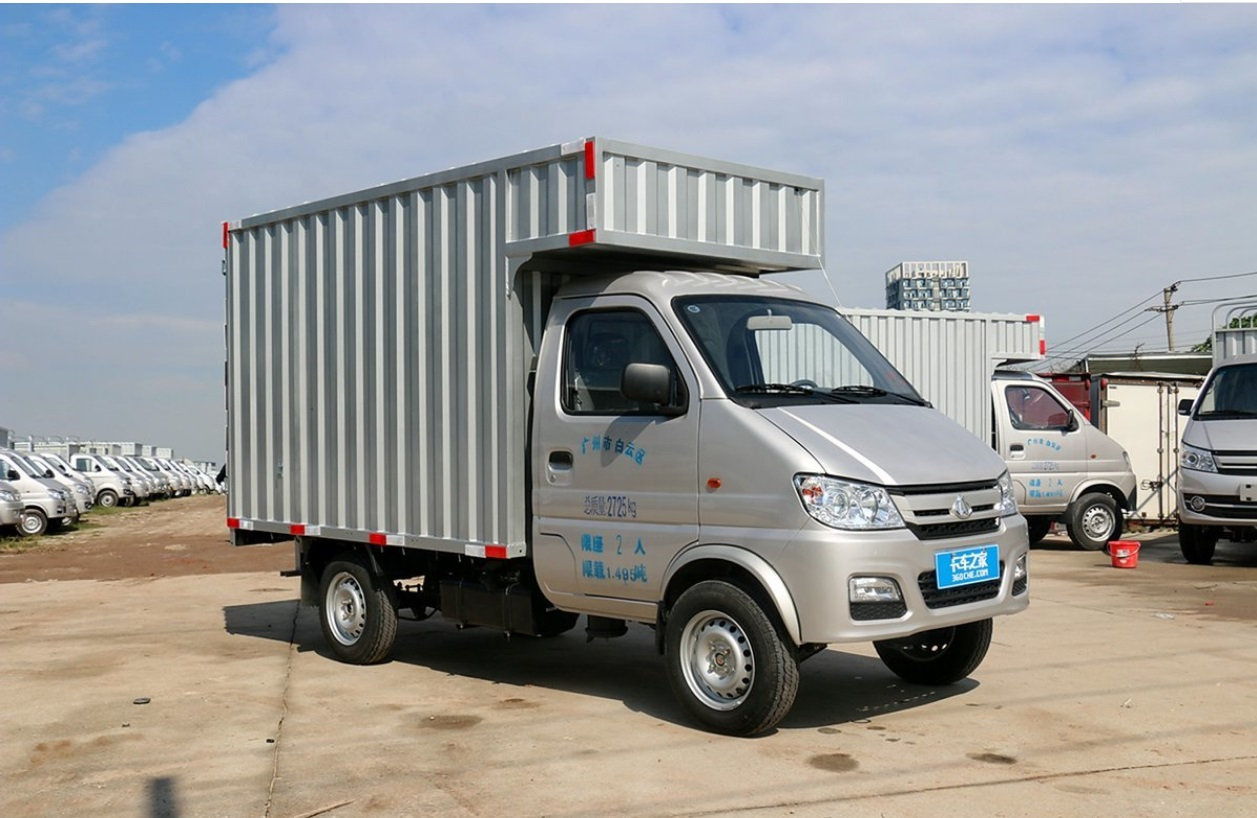truck: (218, 133, 1037, 738)
